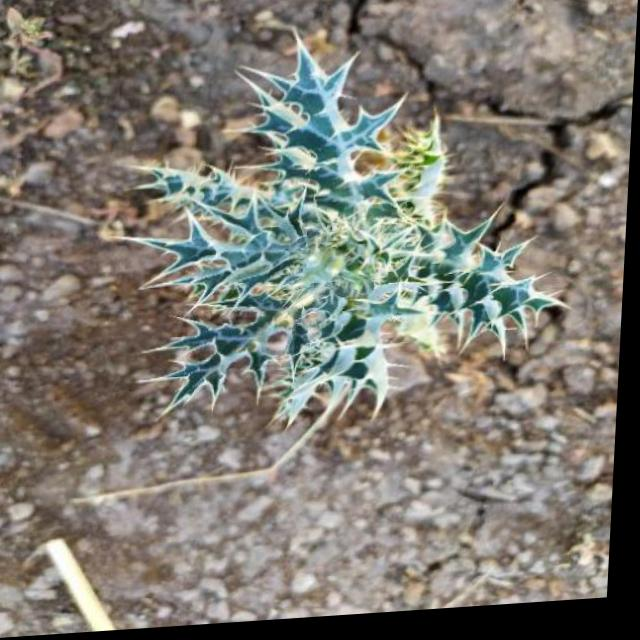weed: (123, 15, 582, 438)
